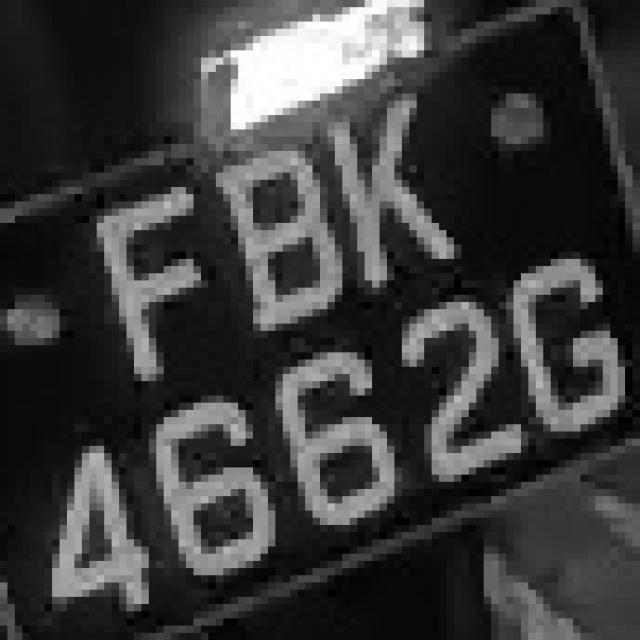2: (380, 288, 543, 496)
4: (0, 5, 2, 7)
6: (253, 345, 424, 554), (126, 388, 298, 568)
B: (208, 137, 350, 345)
F: (74, 180, 208, 381)
G: (499, 244, 625, 446)
K: (305, 93, 462, 295)
